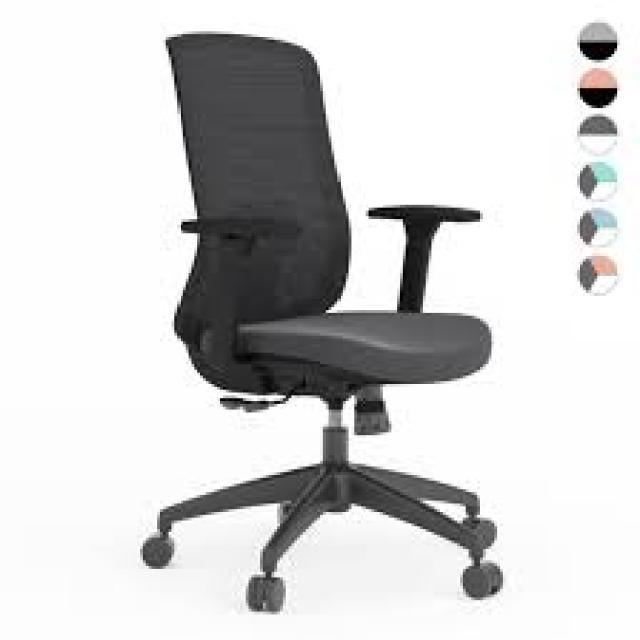chair: (91, 18, 524, 638)
